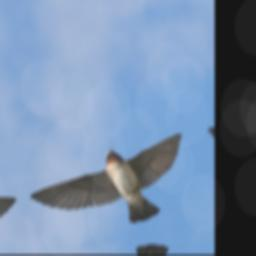Swallow: (21, 133, 199, 243)
